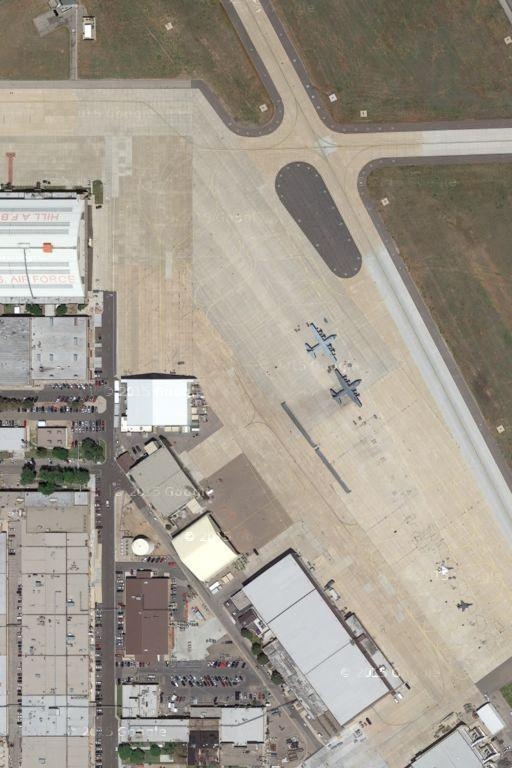C-130: (324, 363, 366, 413), (304, 320, 341, 368)
